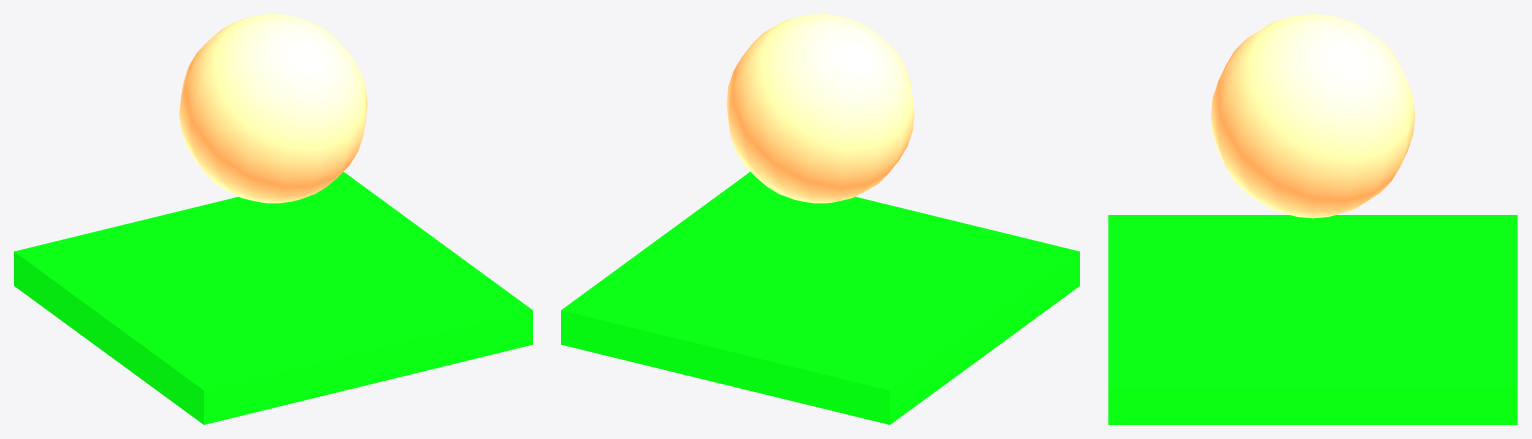
The picture shows the model from 3 angles, left to right: view 1: azimuth 30°, elevation 25°; view 2: azimuth 150°, elevation 25°; view 3: azimuth 270°, elevation 25°; orthographic projection. The views are drawn at different scales.
Parts seen in each view (by area): view 1: Box, Sphere; view 2: Box, Sphere; view 3: Box, Sphere.
Boxes of the visible parts, x1,y1,x2,y2 form: Box: [14, 172, 532, 424]; Sphere: [179, 14, 367, 203]; Box: [561, 172, 1079, 424]; Sphere: [726, 14, 914, 203]; Box: [1108, 215, 1517, 424]; Sphere: [1210, 14, 1415, 218].
Size of the model in its own units: 2 by 1.7 by 2.
